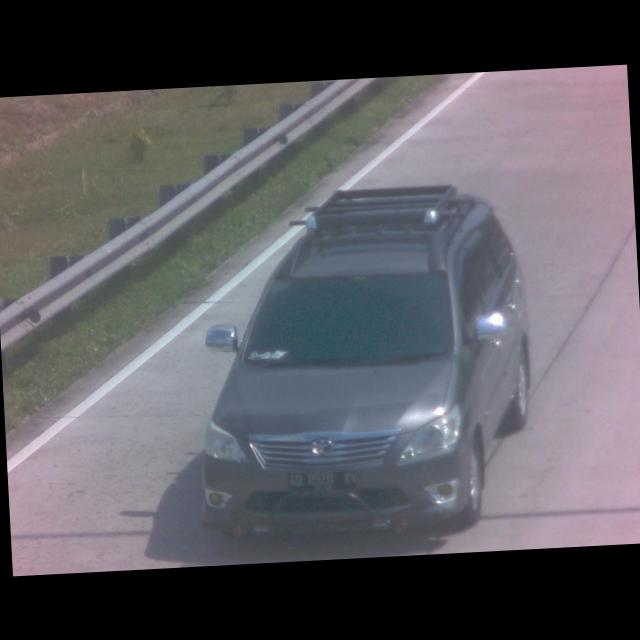plate: (285, 462, 359, 494)
